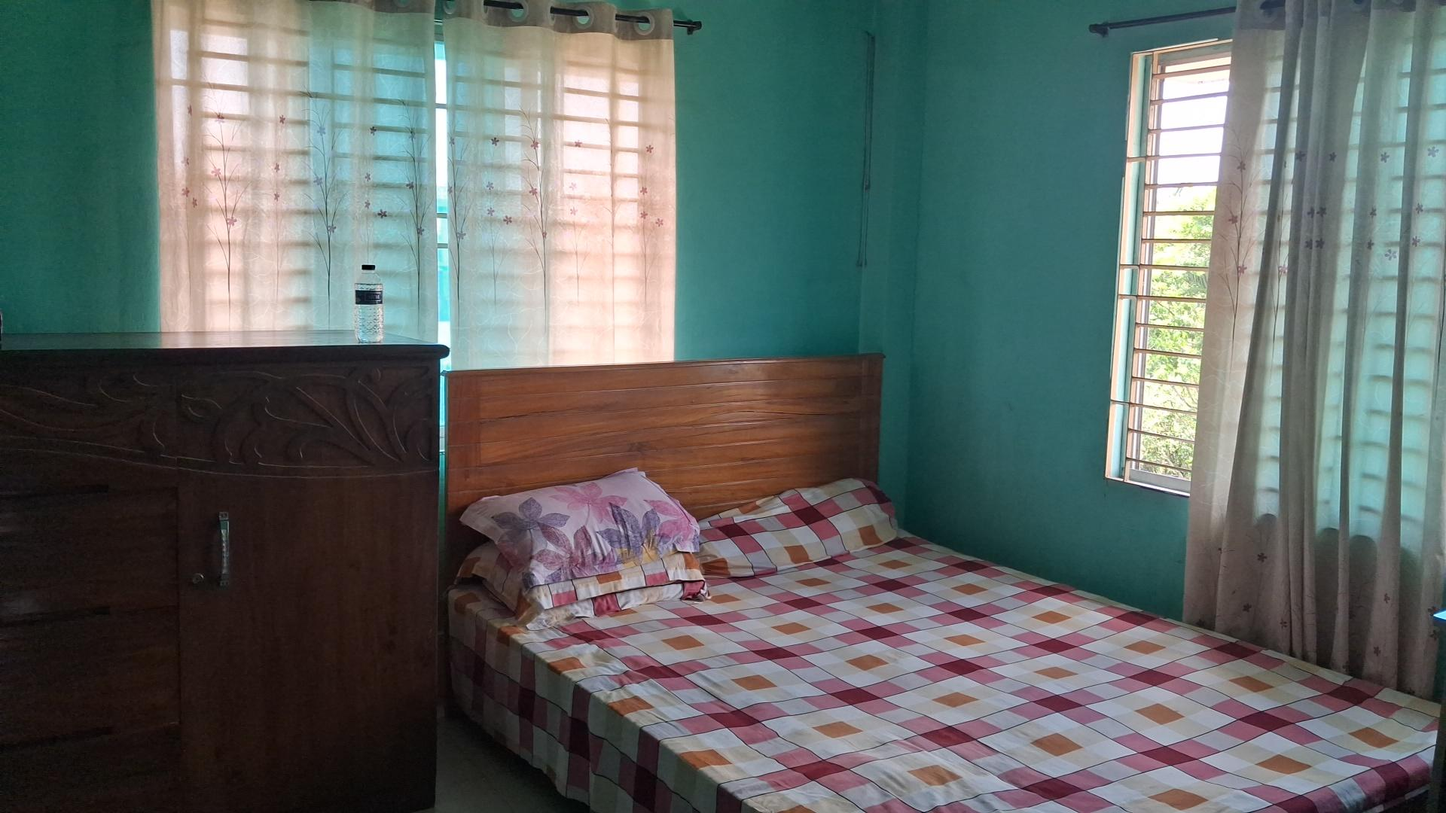Bottle: (355, 262, 389, 344)
Pillow: (466, 487, 708, 613), (713, 500, 916, 575)
Window: (139, 11, 679, 362), (1119, 46, 1446, 508)
